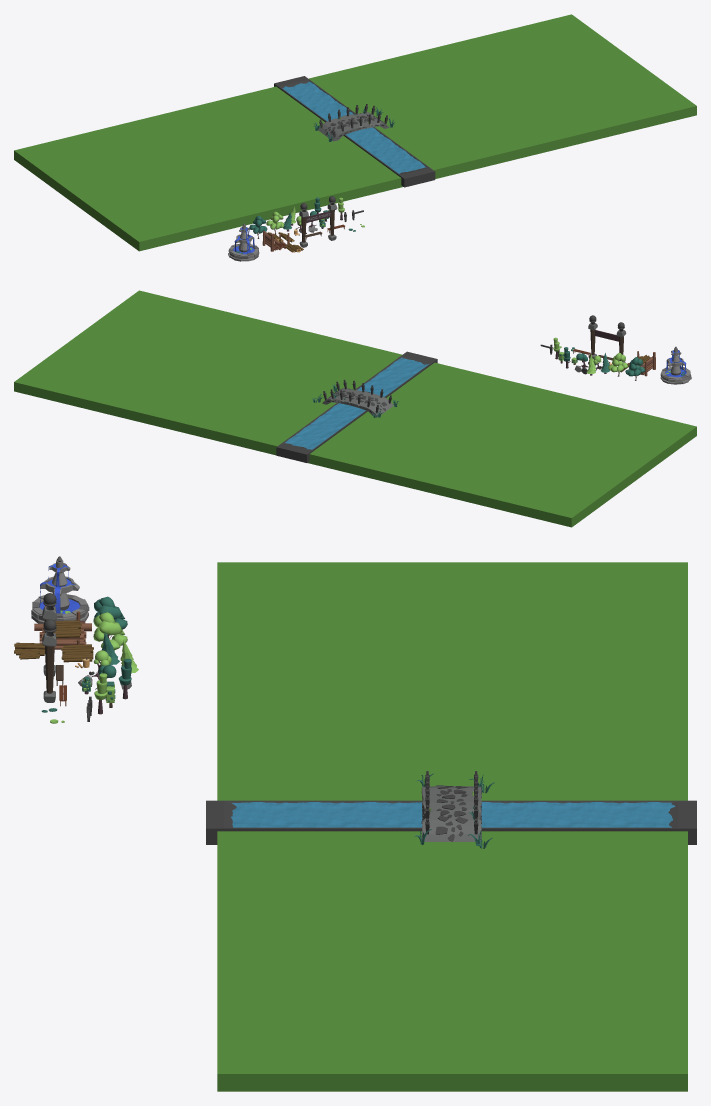
The model's file is PARK02.fbx.
3 renders of one model, top to bottom at view 1: azimuth 30°, elevation 25°; view 2: azimuth 150°, elevation 25°; view 3: azimuth 270°, elevation 25°, orthographic. The views are drawn at different scales.
Visible parts, largest first — view 1: Cube.005, Plane, Cube.010, Cube.014, Cylinder.003, Cube.027; view 2: Cube.005, Plane, Cube.010, Cube.014, Cylinder.003, Cube.027; view 3: Cube.005, Plane, Cube.010, Cube.014, Cylinder.003, Cube.027, log_001.004.
Boxes of the visible parts, bbox=[...] form: Cube.005: bbox=[14, 14, 696, 251]; Plane: bbox=[282, 81, 426, 173]; Cube.010: bbox=[274, 76, 435, 187]; Cube.014: bbox=[318, 104, 389, 141]; Cylinder.003: bbox=[228, 223, 259, 261]; Cube.027: bbox=[299, 196, 337, 247]; Cube.005: bbox=[14, 290, 696, 527]; Plane: bbox=[285, 357, 428, 449]; Cube.010: bbox=[276, 351, 437, 462]; Cube.014: bbox=[322, 379, 393, 416]; Cylinder.003: bbox=[660, 346, 691, 384]; Cube.027: bbox=[588, 315, 626, 362]; Cube.005: bbox=[217, 562, 687, 1091]; Plane: bbox=[231, 802, 675, 827]; Cube.010: bbox=[206, 800, 696, 844]; Cube.014: bbox=[421, 771, 481, 841]; Cylinder.003: bbox=[31, 556, 89, 623]; Cube.027: bbox=[42, 593, 56, 702]; log_001.004: bbox=[34, 606, 91, 649].
Size of the model in its own units: 13676 by 1203 by 7715.
Materials: 18 (1 with a texture image).
